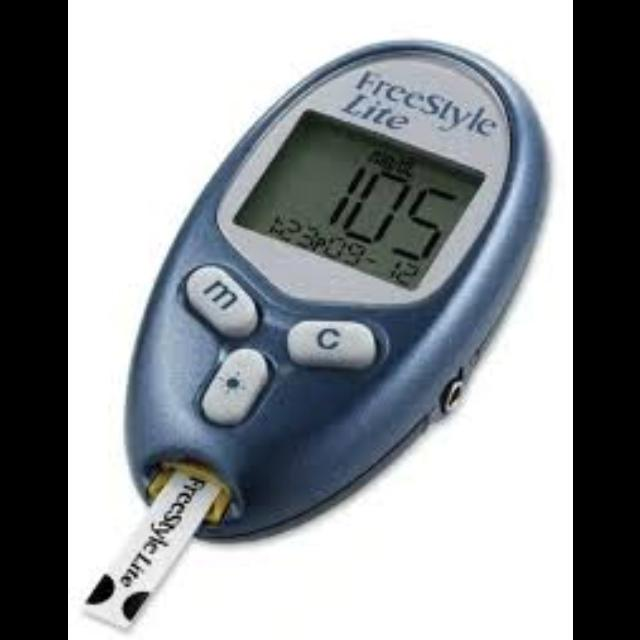Glucose-Meter: (126, 41, 546, 571)
